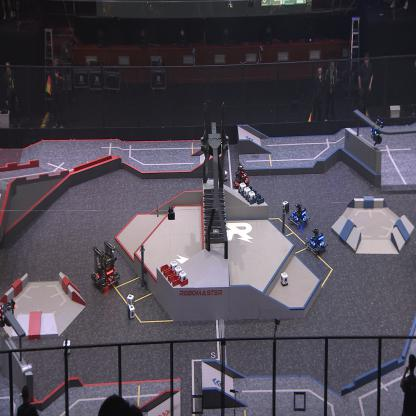car: (90, 241, 120, 293), (305, 226, 329, 256), (288, 203, 310, 229), (232, 162, 250, 191)
